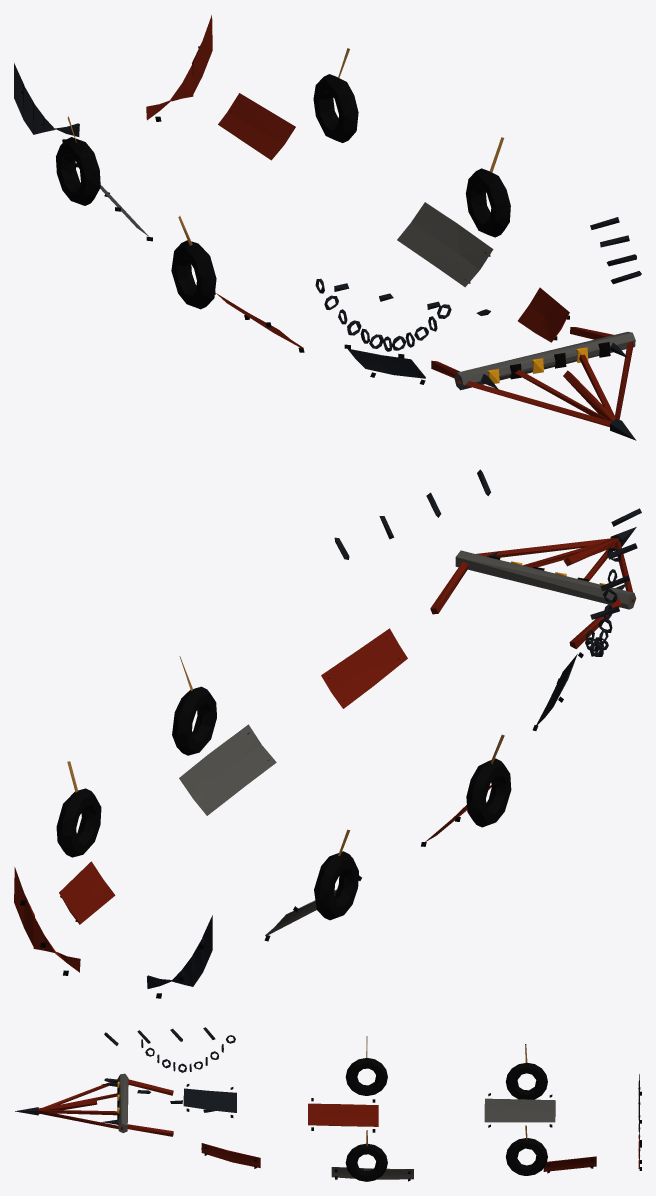
File: tb_sloop_scrap.three-web-toon.lod50.glb
3 views of the same model, one above another, from view 1: azimuth 30°, elevation 25°; view 2: azimuth 150°, elevation 25°; view 3: azimuth 270°, elevation 25° (orthographic). The views are drawn at different scales.
Visible parts, largest first — view 1: tb_sloop_scrap_mesh_lod; view 2: tb_sloop_scrap_mesh_lod; view 3: tb_sloop_scrap_mesh_lod.
Boxes of the visible parts, x1,y1,x2,y2 form: tb_sloop_scrap_mesh_lod: [14, 15, 641, 440]; tb_sloop_scrap_mesh_lod: [14, 469, 641, 998]; tb_sloop_scrap_mesh_lod: [15, 1027, 641, 1181].
Bounding box in the file's own units: 3.82 × 1.93 × 10.69.
